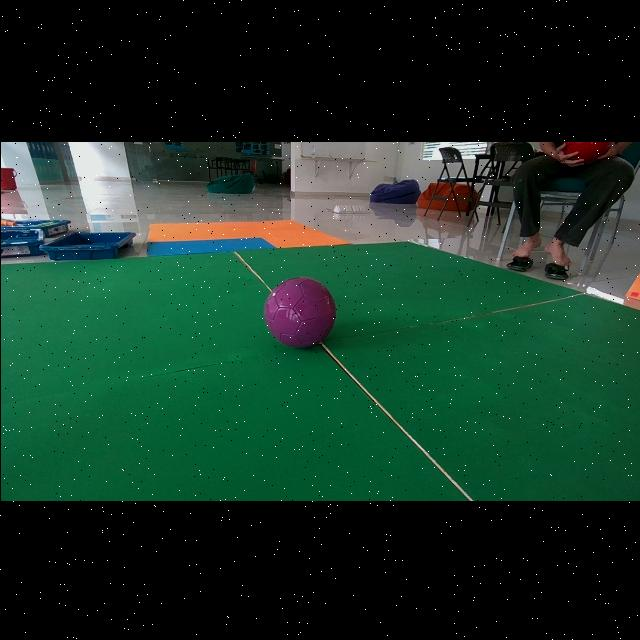P: (263, 275, 334, 346)
R: (562, 140, 609, 161)
